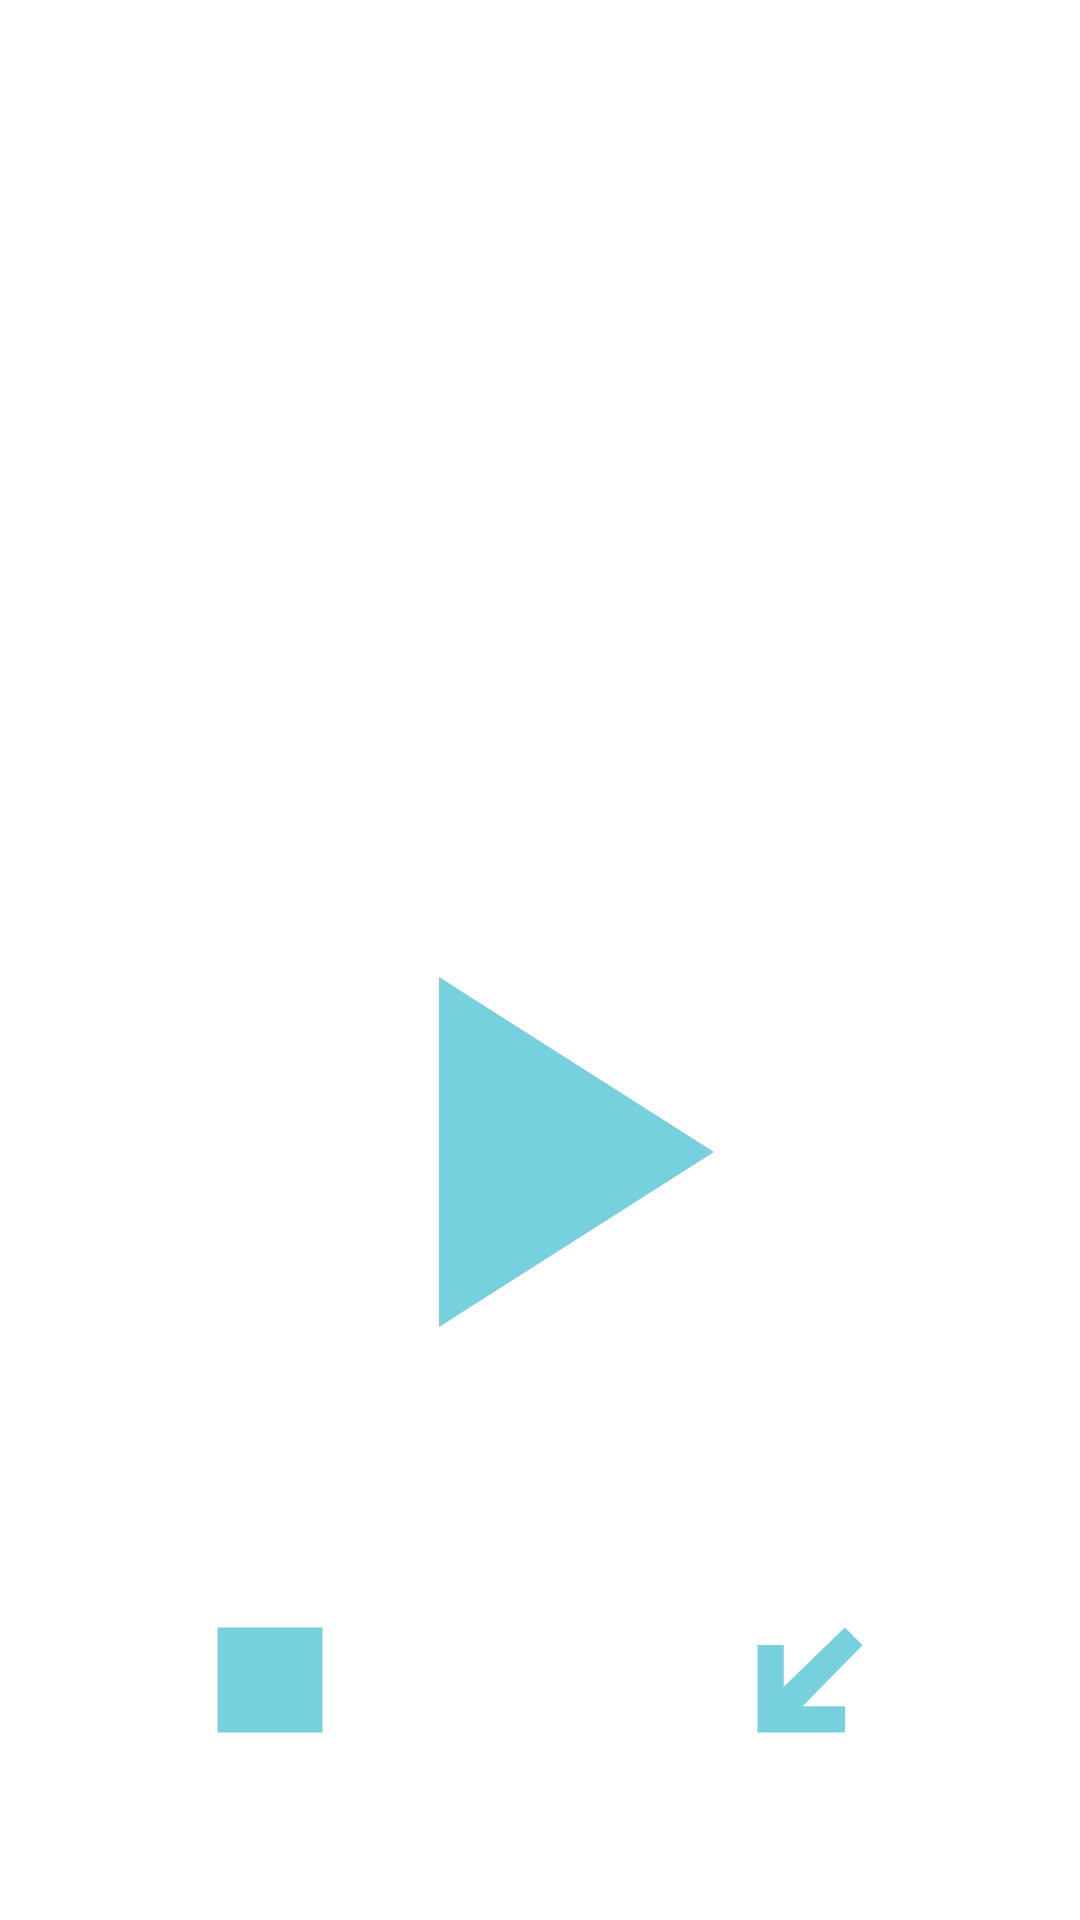

Screen size 1080px x 1920px. Icon name, then its center in pixels as (x=x, y=y):
play: (x=576, y=1152)
stop: (x=270, y=1680)
